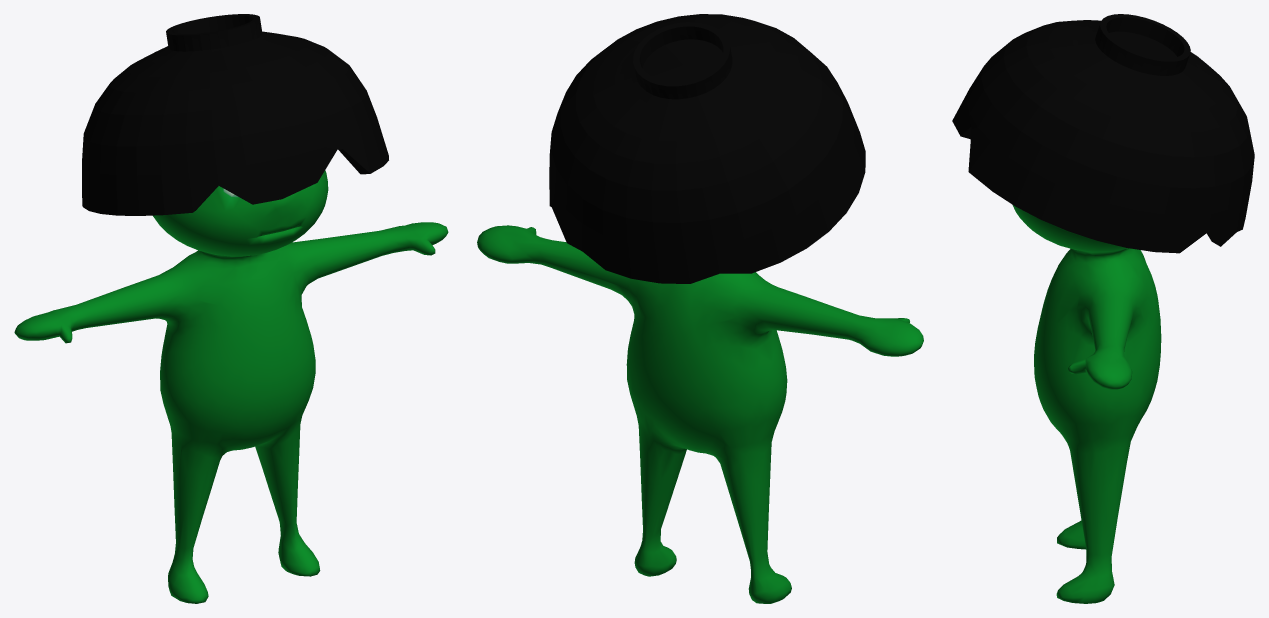
The model's file is kodama_unwrapped.fbx.
3 views of the same model, side by side, from view 1: azimuth 30°, elevation 25°; view 2: azimuth 150°, elevation 25°; view 3: azimuth 270°, elevation 25° (orthographic). The views are drawn at different scales.
Visible parts, largest first — view 1: kodama_body, hat; view 2: hat, kodama_body; view 3: hat, kodama_body.
Boxes of the visible parts, left/top/right/bottom form: kodama_body: left=14, top=170, right=448, bottom=603; hat: left=82, top=14, right=388, bottom=215; hat: left=549, top=14, right=865, bottom=283; kodama_body: left=477, top=225, right=923, bottom=603; hat: left=952, top=14, right=1254, bottom=253; kodama_body: left=1012, top=205, right=1161, bottom=603.
Bounding box in the file's own units: 517 × 631 × 317.
